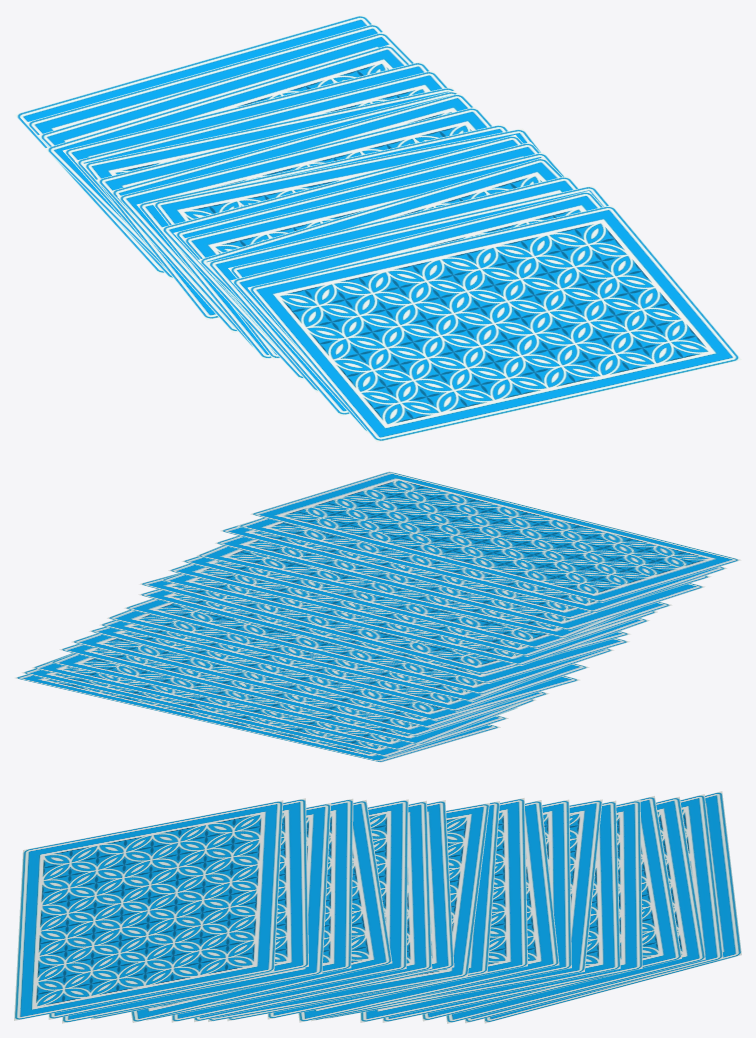
The picture shows the model from 3 angles, top to bottom: view 1: azimuth 30°, elevation 25°; view 2: azimuth 150°, elevation 25°; view 3: azimuth 270°, elevation 25°; orthographic projection. The views are drawn at different scales.
Visible parts, largest first — view 1: Cards; view 2: Cards; view 3: Cards.
Part boxes in pixels (left/top/right/bottom): Cards: left=14, top=14, right=741, bottom=442; Cards: left=15, top=471, right=741, bottom=762; Cards: left=14, top=791, right=741, bottom=1023.
Bounding box in the file's own units: 1.59 × 0.2792 × 2.73.
1 material, 1 textured.
